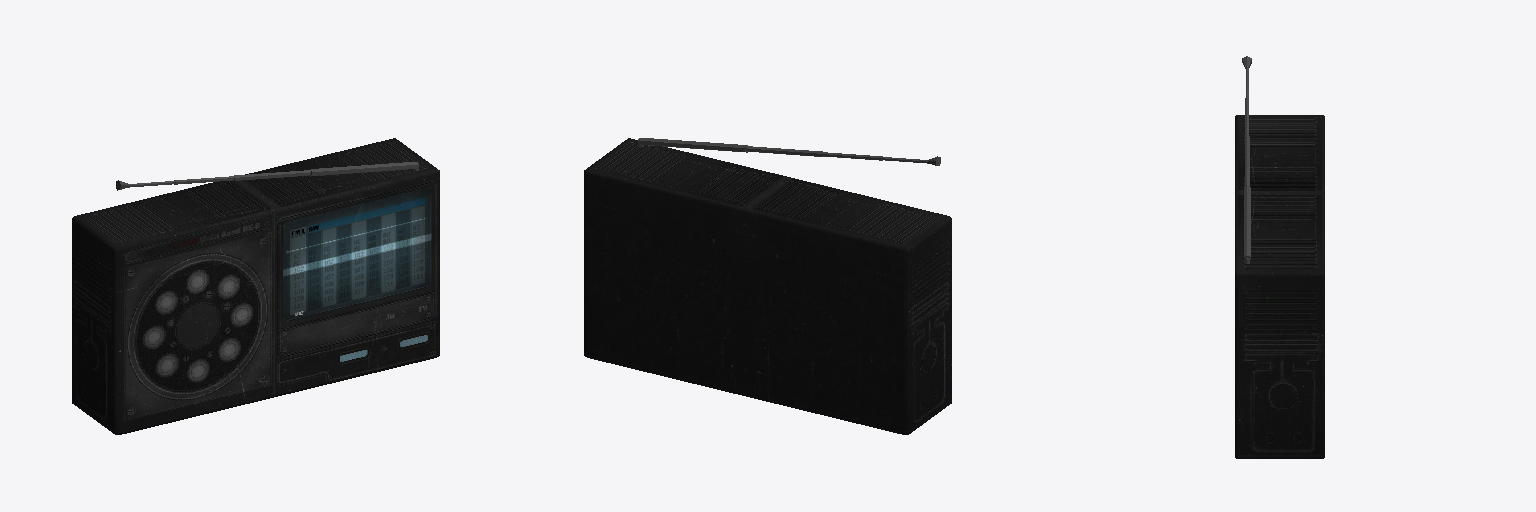
The picture shows the model from 3 angles: view 1: azimuth 30°, elevation 25°; view 2: azimuth 150°, elevation 25°; view 3: azimuth 270°, elevation 25°; orthographic projection.
Bounding box in the file's own units: 0.3472 × 0.2546 × 0.0836.
1 materials, 1 textured.